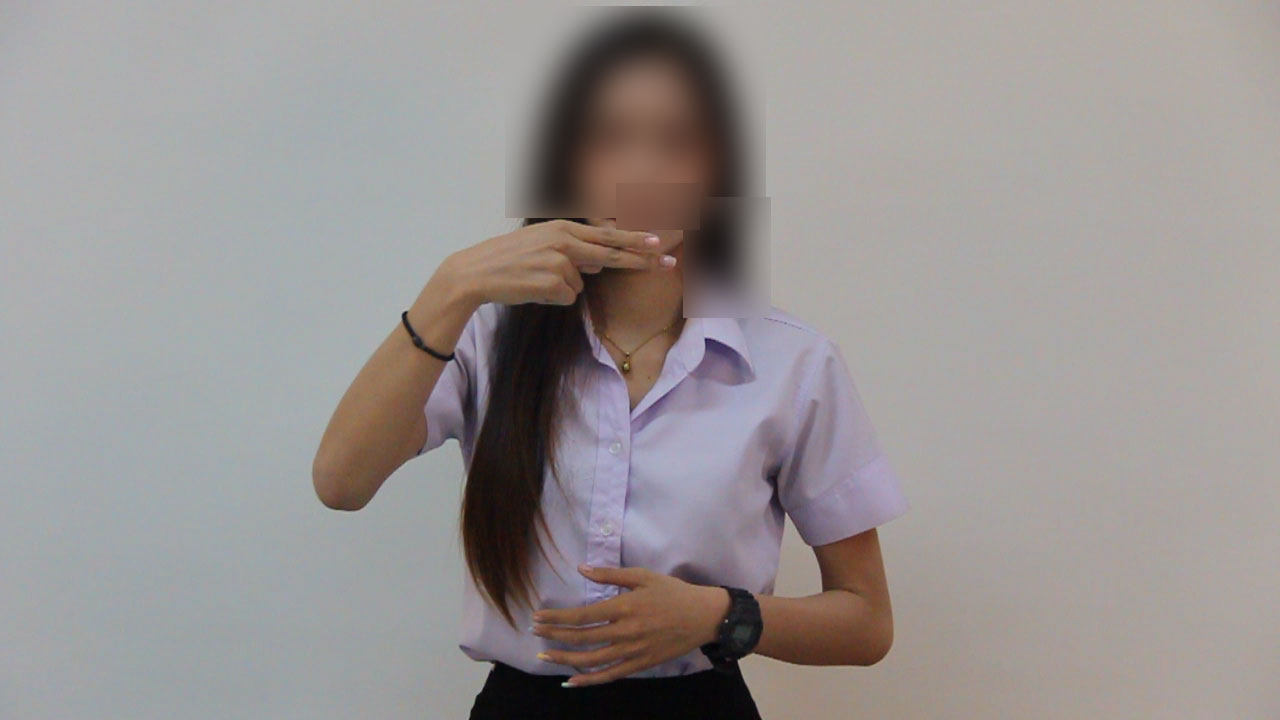hor: (433, 211, 687, 312)
